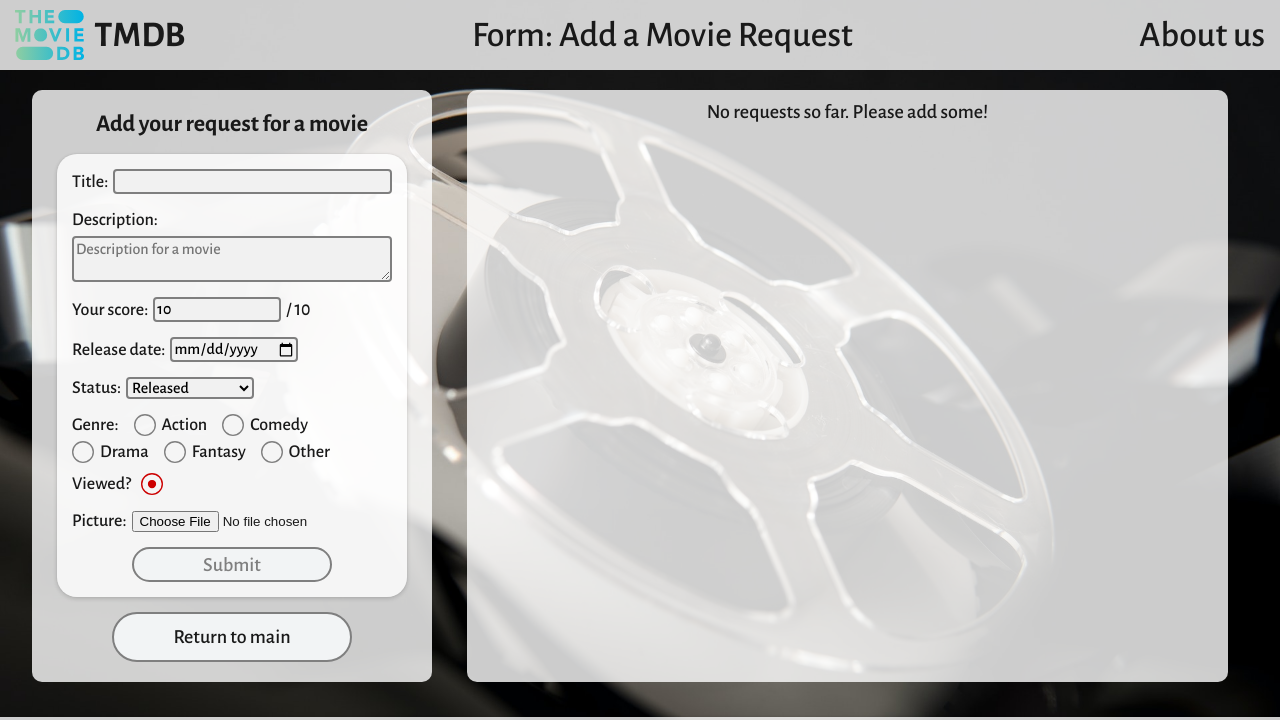
Form Page (with user generated cards) › If entered score is >10, should display the error message
The width and height of the screenshot is (1280, 720).
In the field: x=253, y=182 [113, 169, 392, 194], type "New Camera Card"
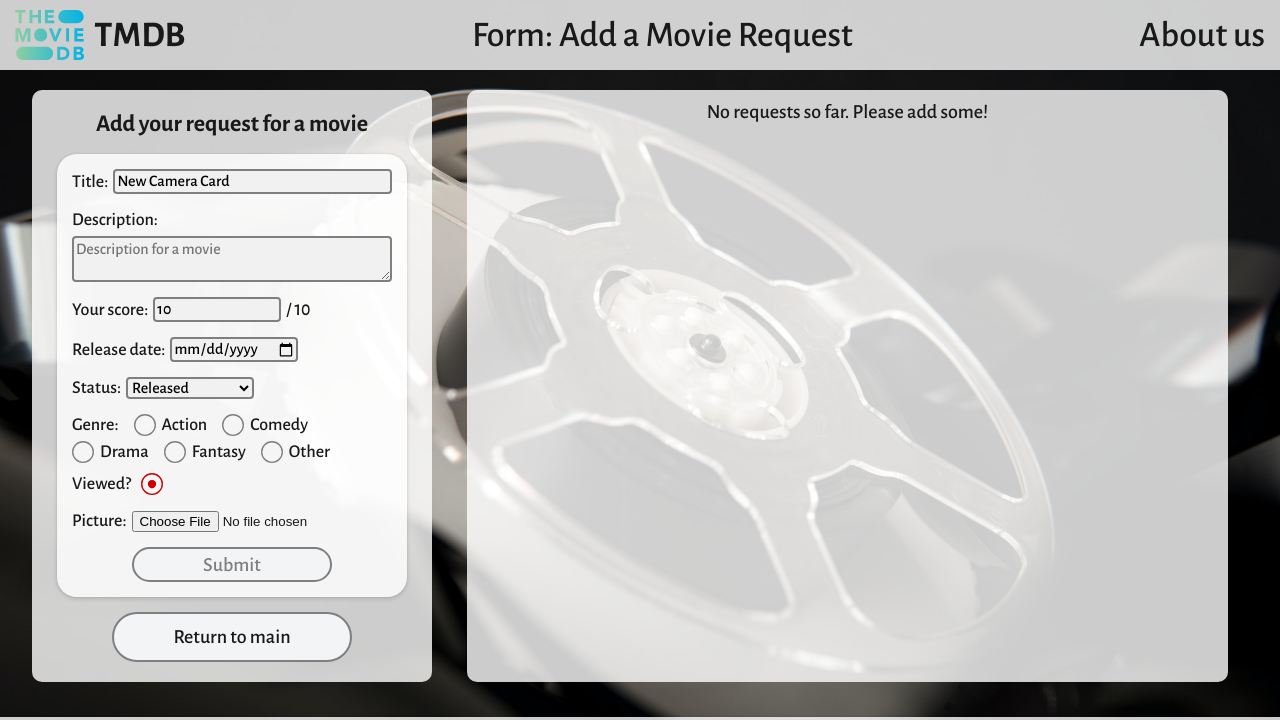
In the number field: x=217, y=310 [153, 297, 281, 322], type "11"
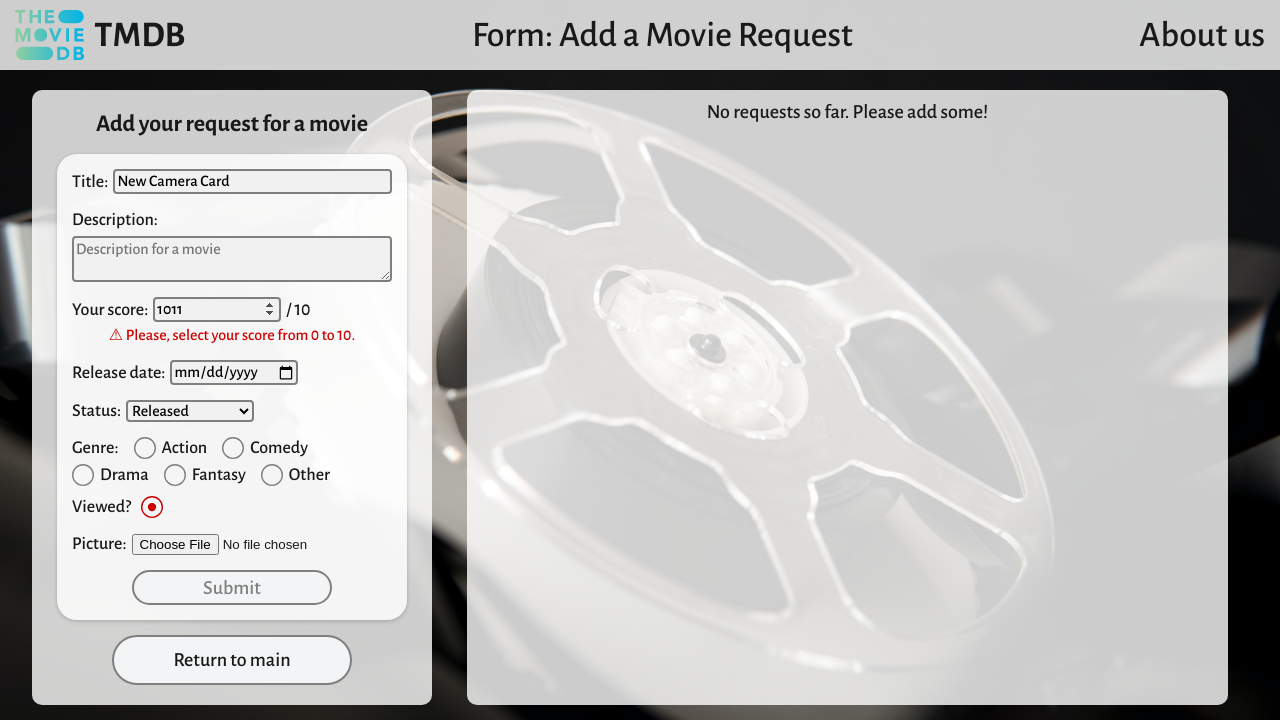
Check: the text "Please, select your score from 0 to 10." is shown, box [126, 327, 355, 343]
